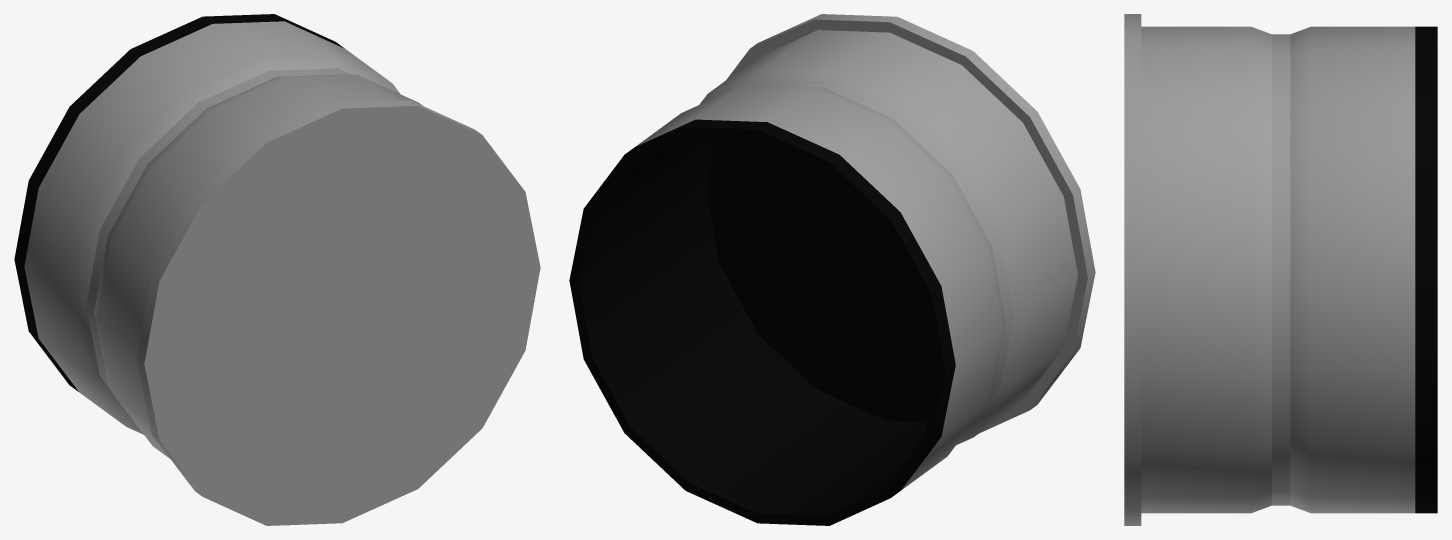
The model's file is 125_empty.fbx.
3 views of the same model, side by side, from view 1: azimuth 30°, elevation 25°; view 2: azimuth 150°, elevation 25°; view 3: azimuth 270°, elevation 25° (orthographic). The views are drawn at different scales.
Visible parts, largest first — view 1: Cylinder; view 2: Cylinder; view 3: Cylinder.
Boxes of the visible parts, box(x1,y1,x2,y2) form: Cylinder: box(14, 14, 540, 525); Cylinder: box(569, 14, 1095, 525); Cylinder: box(1124, 14, 1437, 525).
Bounding box in the file's own units: 100 × 100 × 61.14.
